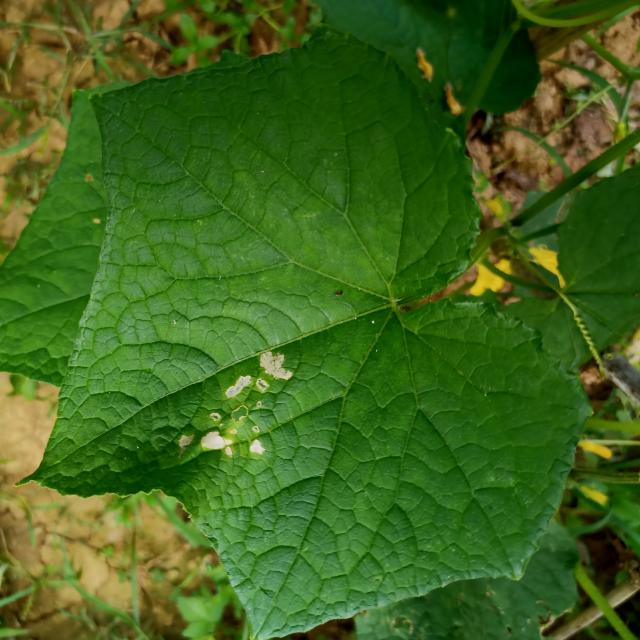disease_cucumber: (176, 336, 298, 461)
